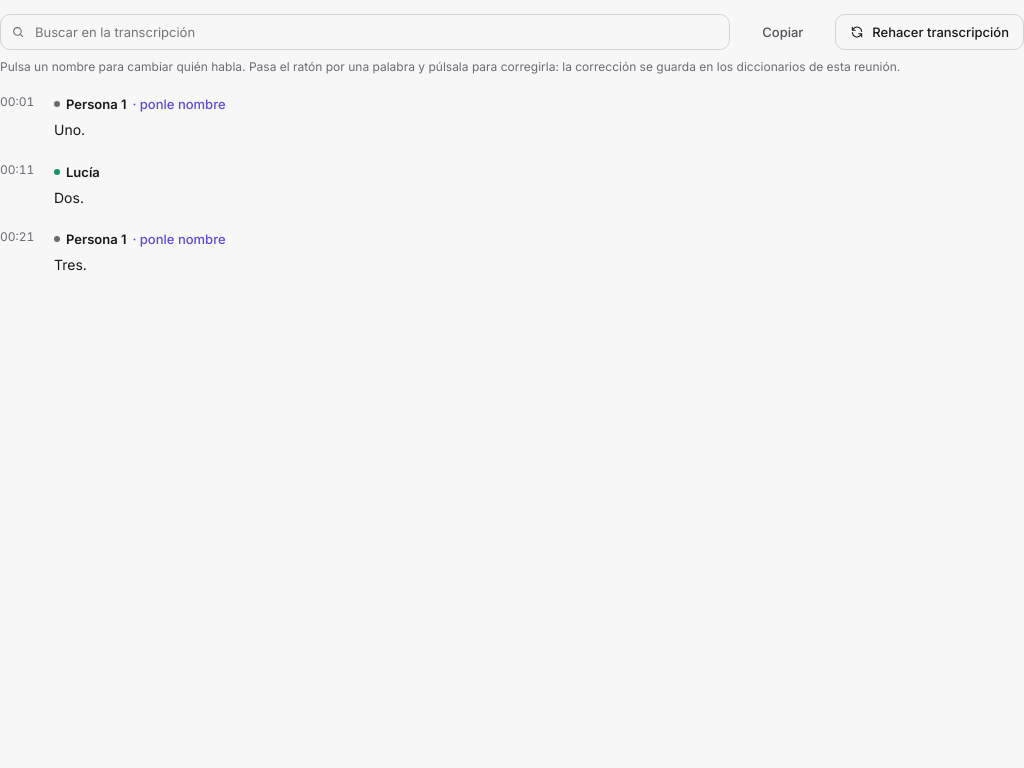
Test: supports choosing an existing voice by keyboard after searching
Click the button "Persona 1 · ponle nombre" next to "00:01". click: (140, 104)
box: x1=48 y1=92 x2=232 y2=116
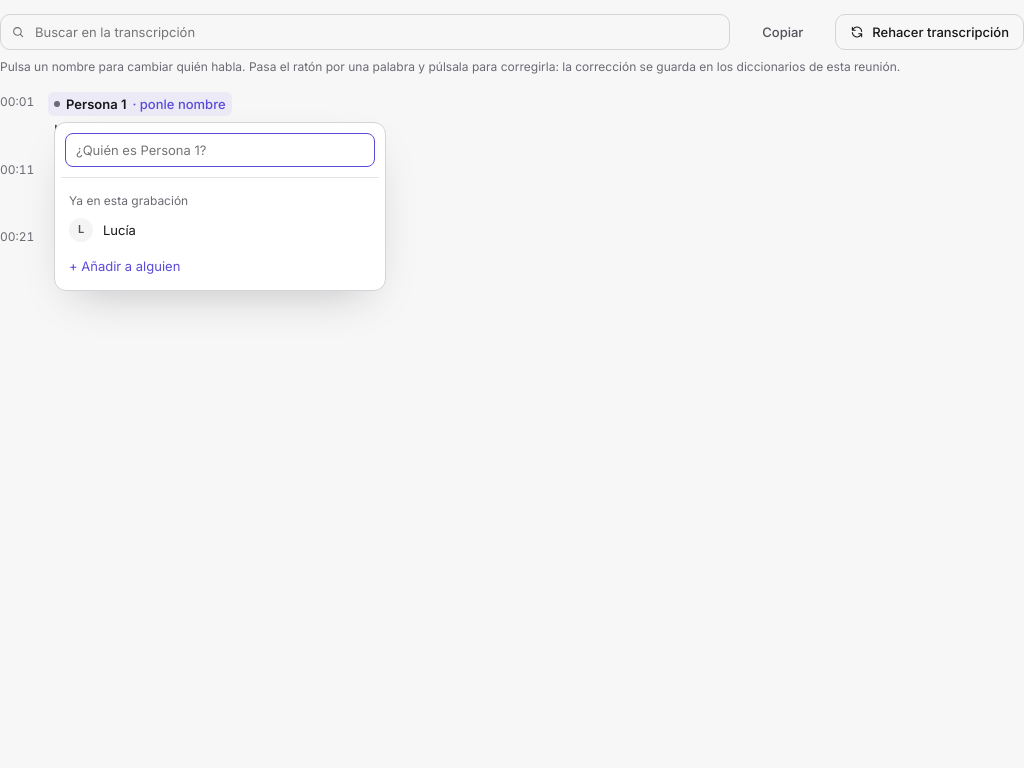
Type "Lucía" into the field named "Buscar o añadir un nombre". click: (220, 150)
box: x1=65 y1=133 x2=375 y2=167
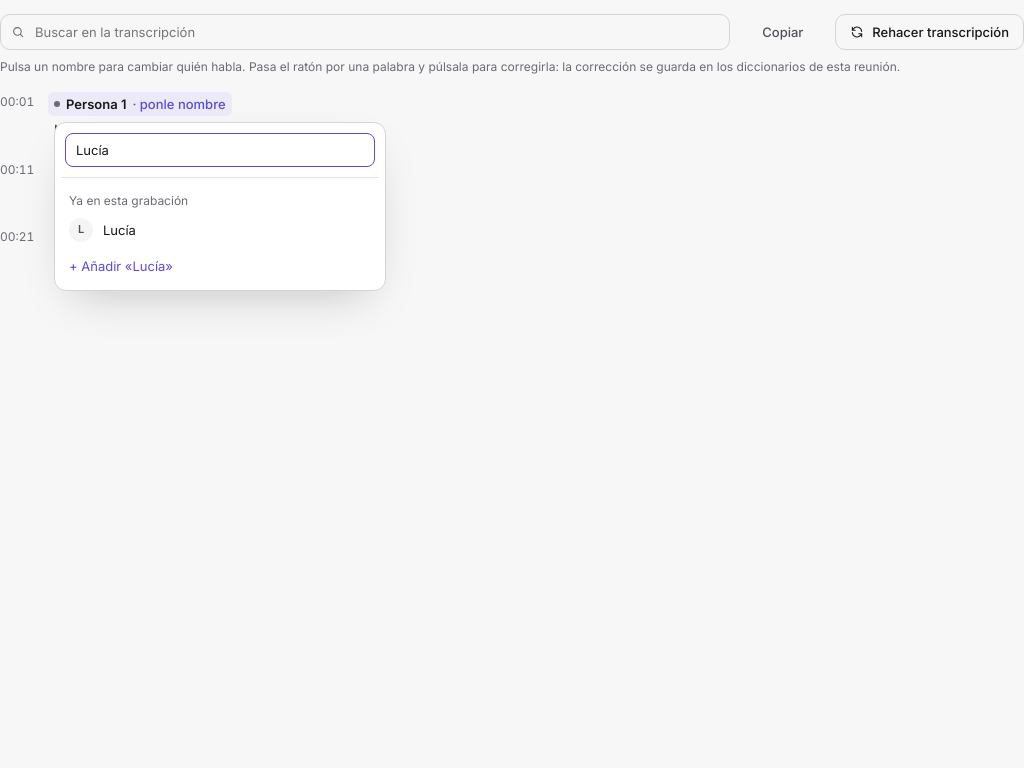
Press Enter in the field named "Buscar o añadir un nombre", box x1=65 y1=133 x2=375 y2=167
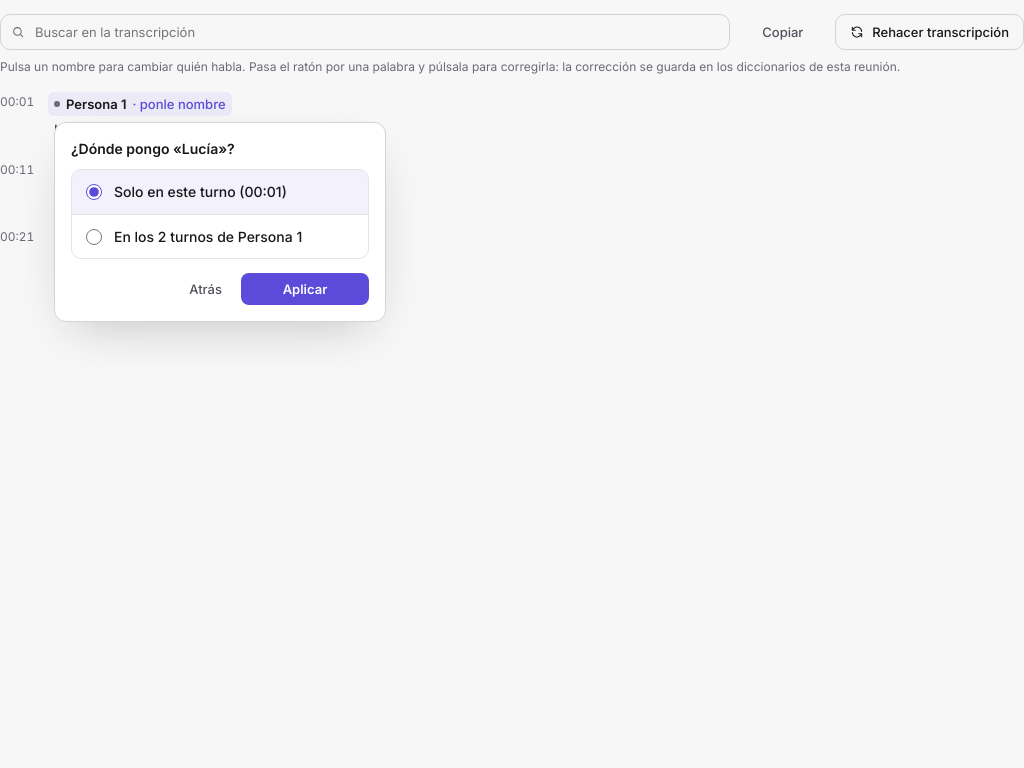
Check: the heading "¿Dónde pongo «Lucía»?" is shown, box x1=71 y1=140 x2=235 y2=157
Press Escape in the radio button labelled "Solo en este turno (00:01)", box x1=86 y1=184 x2=102 y2=200
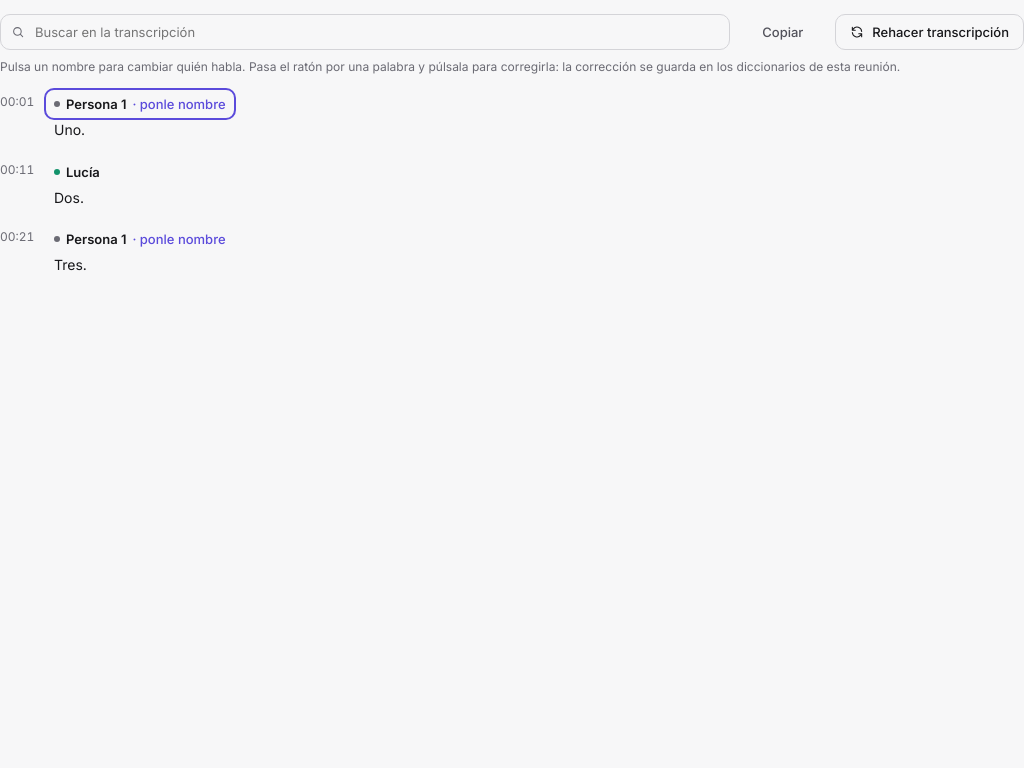
Check: the dialog is gone
